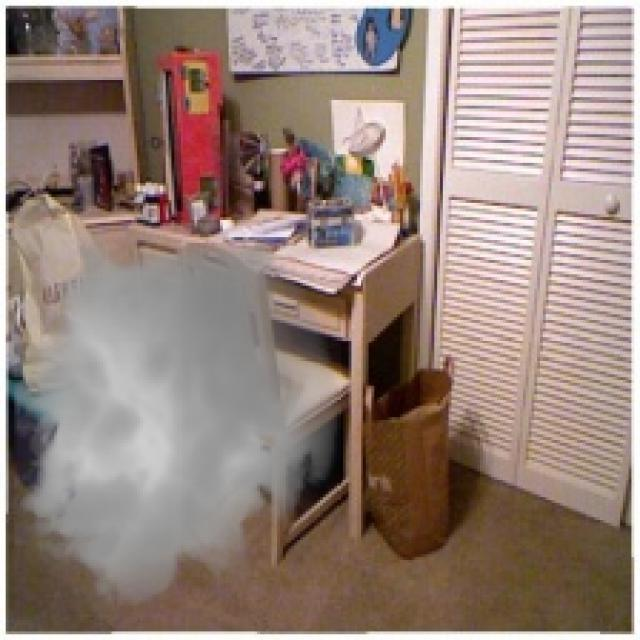Smoke: (0, 223, 352, 621)
